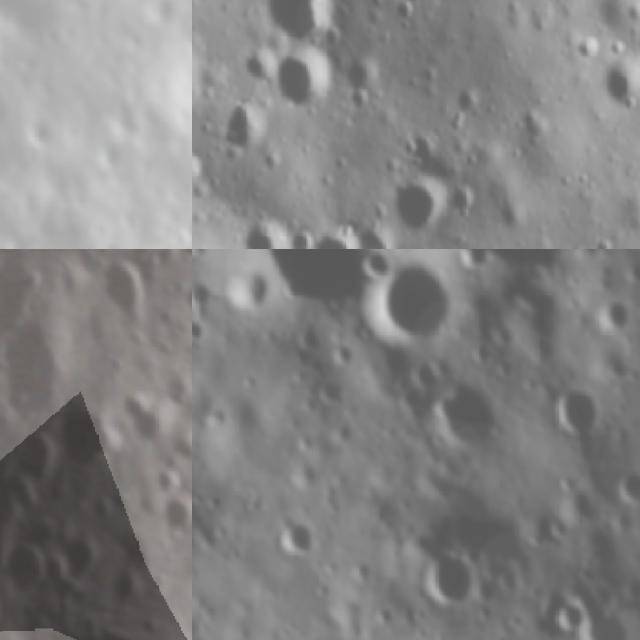crater: (372, 259, 464, 347), (421, 372, 501, 461), (0, 321, 71, 421), (47, 408, 126, 477), (159, 0, 192, 151), (268, 50, 336, 122), (411, 545, 477, 611), (385, 170, 454, 232), (95, 250, 149, 324), (114, 382, 179, 442), (264, 502, 320, 568), (7, 431, 66, 487), (0, 254, 38, 340), (547, 385, 601, 441), (268, 0, 339, 39), (0, 538, 45, 594), (220, 264, 267, 316), (343, 47, 381, 111), (599, 57, 640, 114), (230, 212, 293, 249), (59, 530, 103, 582), (18, 107, 61, 158), (590, 292, 636, 339), (231, 44, 274, 94), (609, 457, 640, 514), (546, 598, 590, 636), (143, 460, 182, 500), (310, 374, 351, 411), (160, 494, 192, 540), (357, 249, 400, 282), (310, 227, 373, 249), (357, 221, 406, 249), (192, 268, 219, 311), (192, 315, 212, 352), (192, 146, 207, 192), (177, 275, 192, 319), (171, 249, 192, 263), (448, 633, 479, 640)
